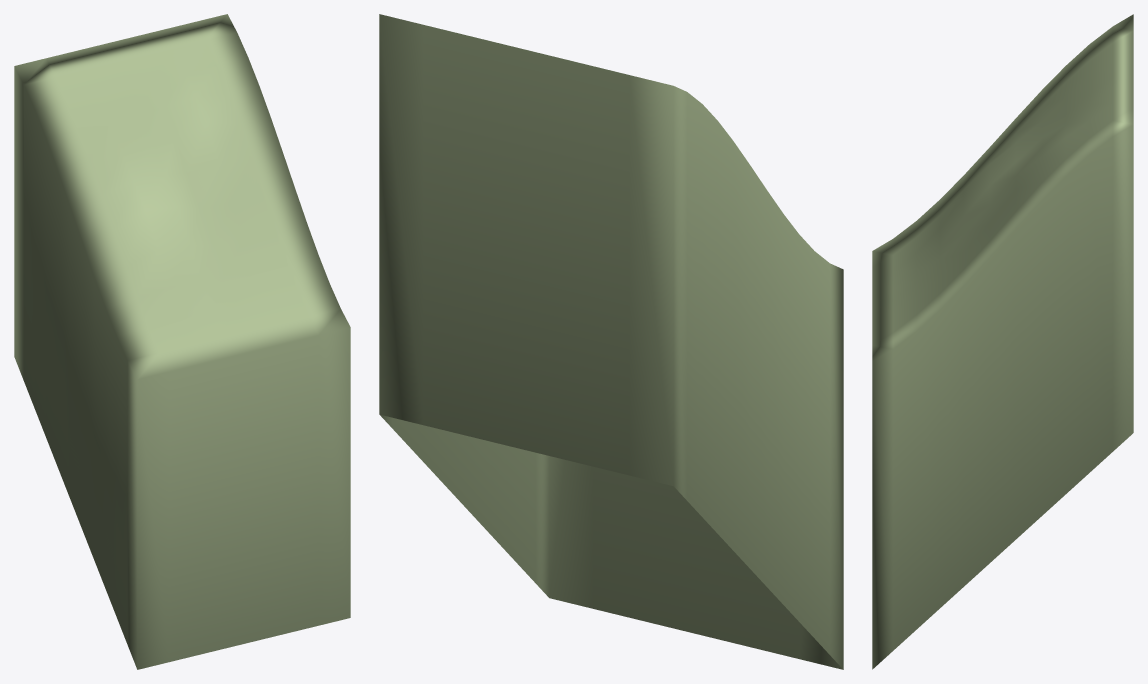
The model's file is ground-ramp-11.glb.
3 renders of one model, left to right at view 1: azimuth 30°, elevation 25°; view 2: azimuth 150°, elevation 25°; view 3: azimuth 270°, elevation 25°, orthographic. The views are drawn at different scales.
Parts seen in each view (by area): view 1: ground-ramp-11; view 2: ground-ramp-11; view 3: ground-ramp-11.
Part boxes in pixels (left/top/right/bottom): ground-ramp-11: left=14, top=14, right=350, bottom=669; ground-ramp-11: left=379, top=14, right=843, bottom=669; ground-ramp-11: left=872, top=14, right=1133, bottom=669.
Bounding box in the file's own units: 1 × 2.3 × 1.
